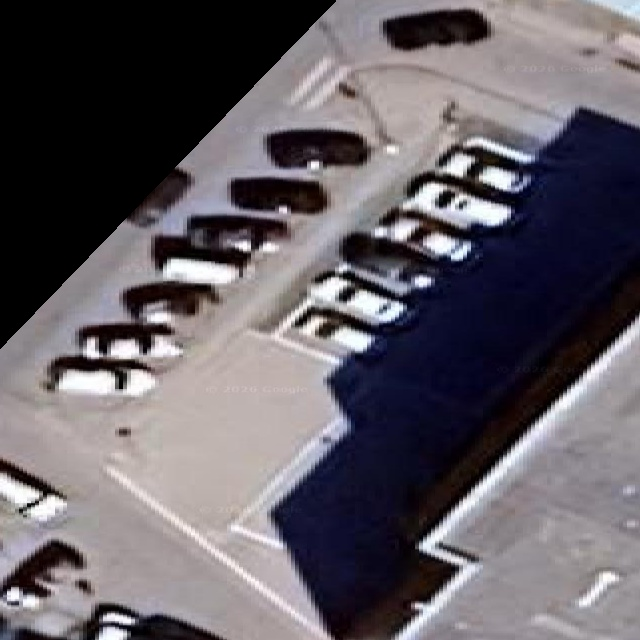car: (400, 172, 512, 228), (372, 208, 475, 263), (307, 268, 407, 324), (0, 540, 83, 607), (340, 232, 435, 288), (80, 604, 220, 639), (435, 140, 529, 192), (152, 235, 249, 284), (44, 355, 156, 395), (383, 8, 489, 48), (120, 280, 218, 323), (263, 128, 369, 167), (0, 460, 65, 523), (186, 213, 288, 252), (292, 307, 375, 352), (128, 168, 192, 226), (76, 324, 181, 359), (228, 176, 327, 213), (455, 136, 535, 167), (127, 613, 220, 639), (80, 604, 138, 639)
